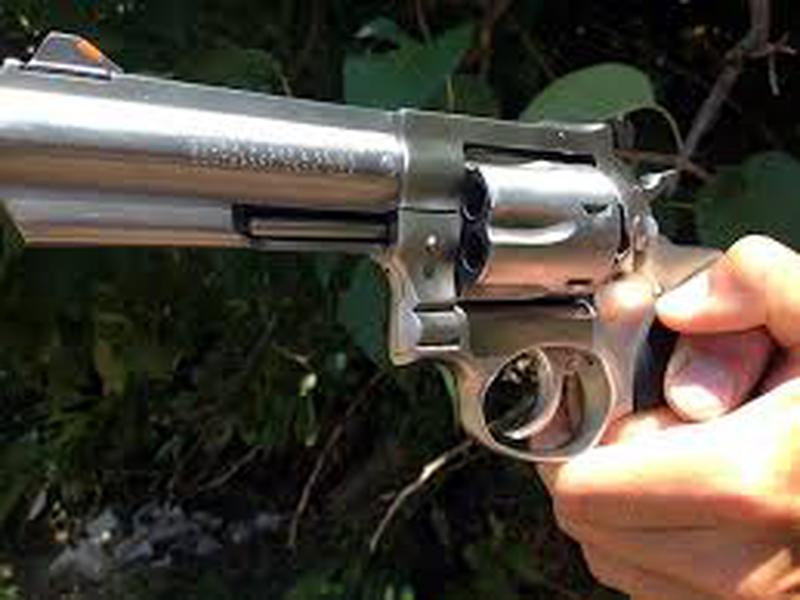gun: (1, 25, 800, 598)
